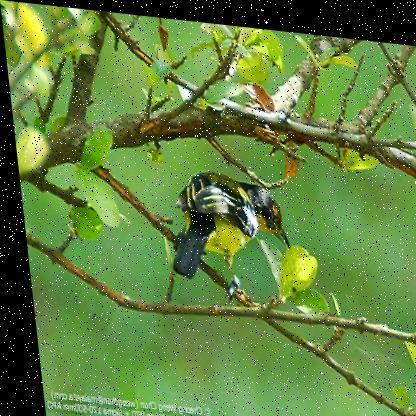Burung: (159, 161, 289, 285)
